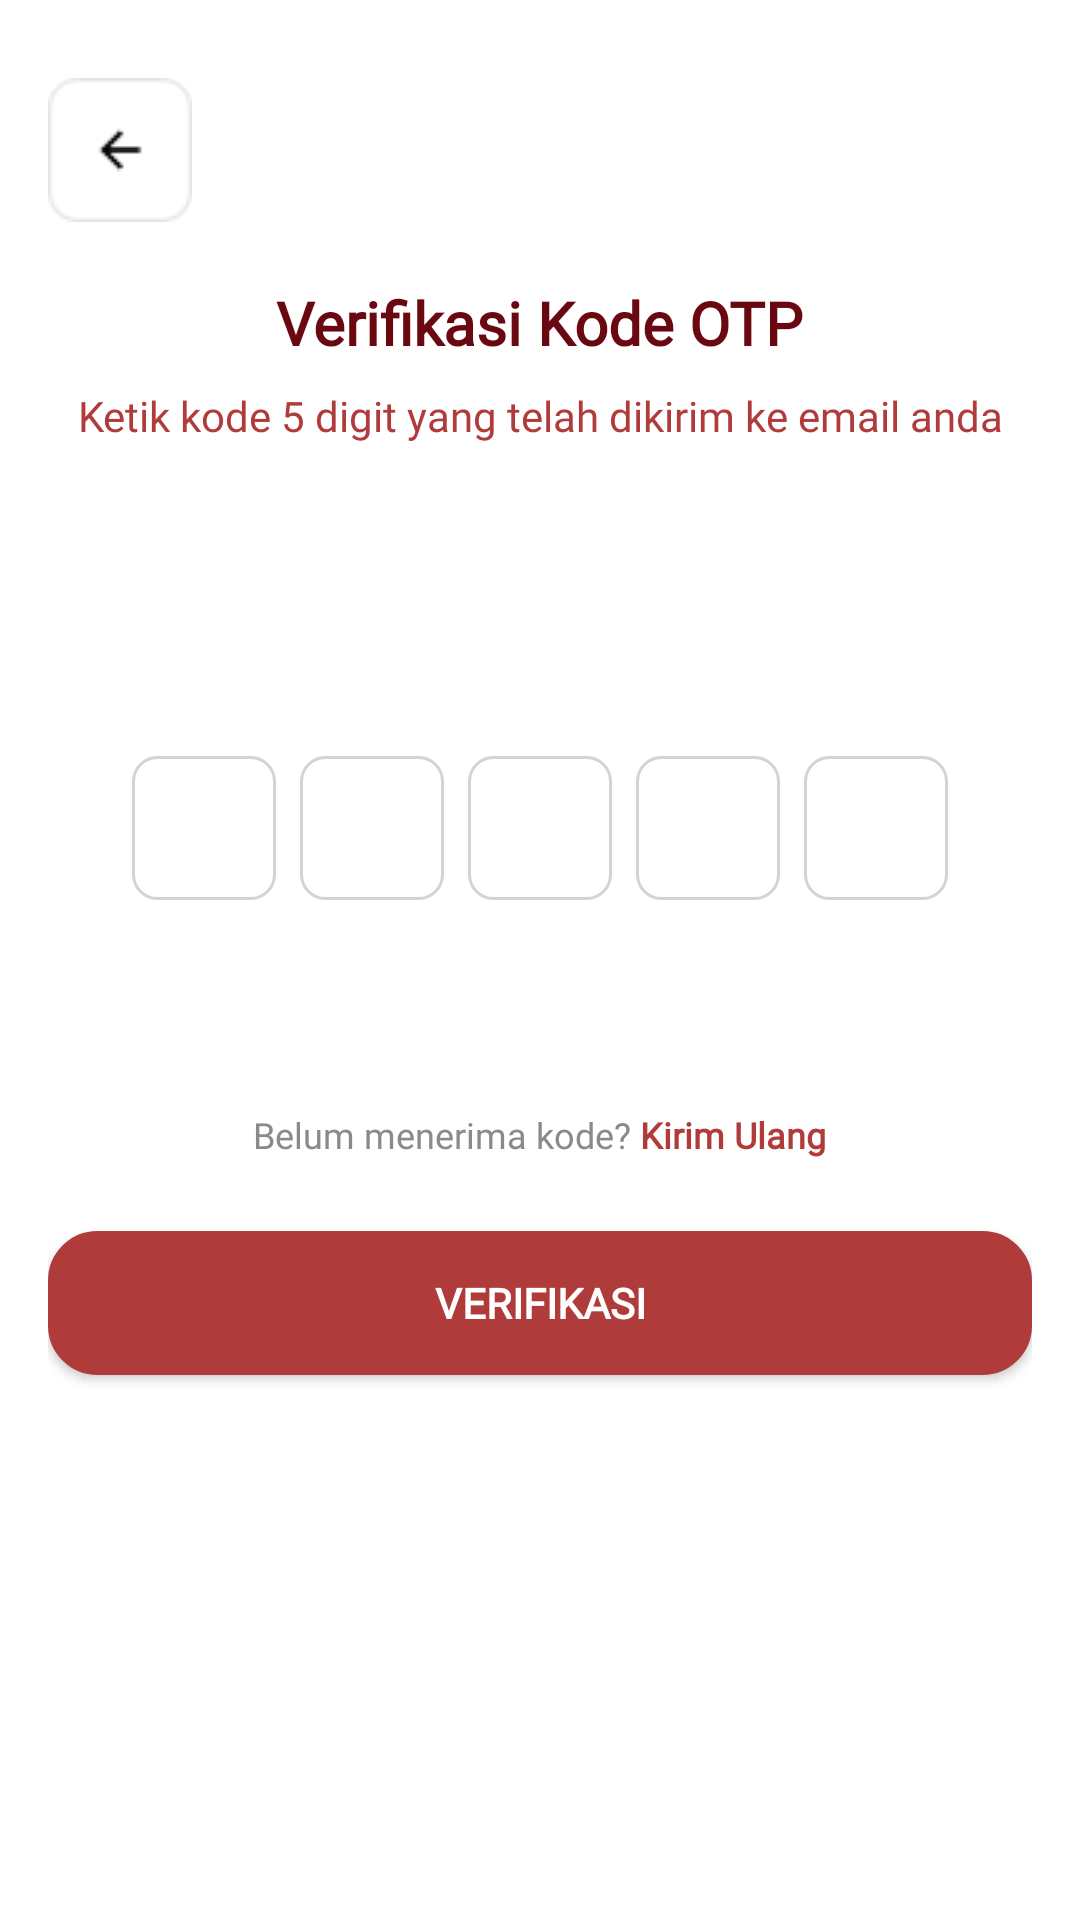

Screen size 1080w x 1920h. Icon name, then its center in pixels as point (x, y):
Kembali: point (120, 150)
